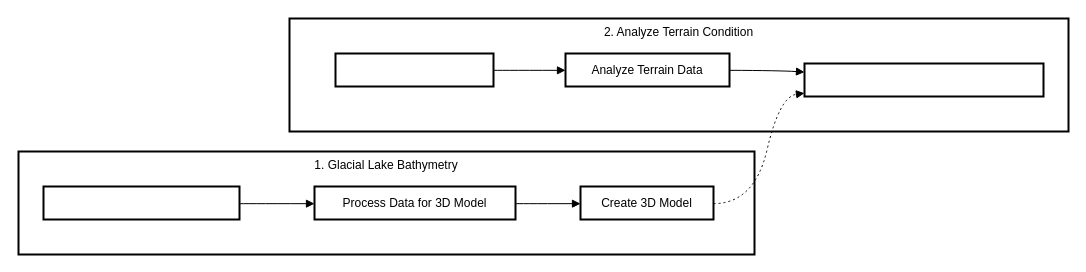
The diagram is 1086 pixels wide and 272 high, and some of its shapes have lost their labels. The centre of each missing label's shape, as x and y in pixels:
"Collect Bathymetric Data" goes at pixel 141 202.
"Collect Terrain Data" goes at pixel 414 69.
"Identify Areas for Improvement" goes at pixel 923 79.
